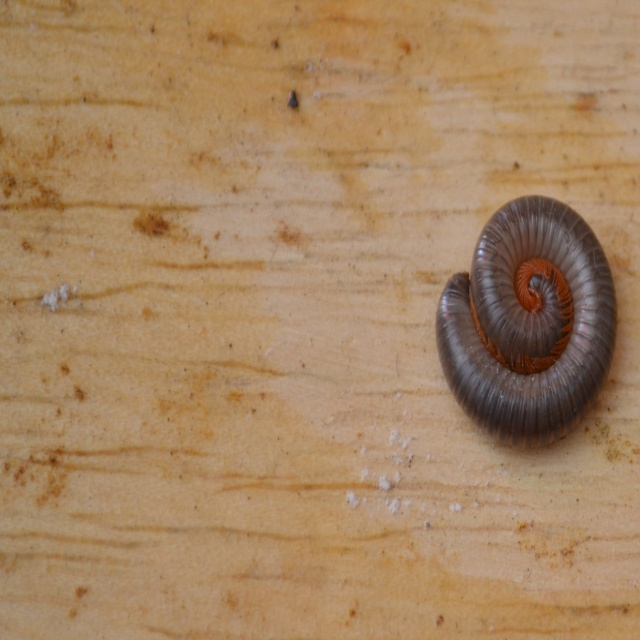Centipede: (433, 190, 617, 450)
